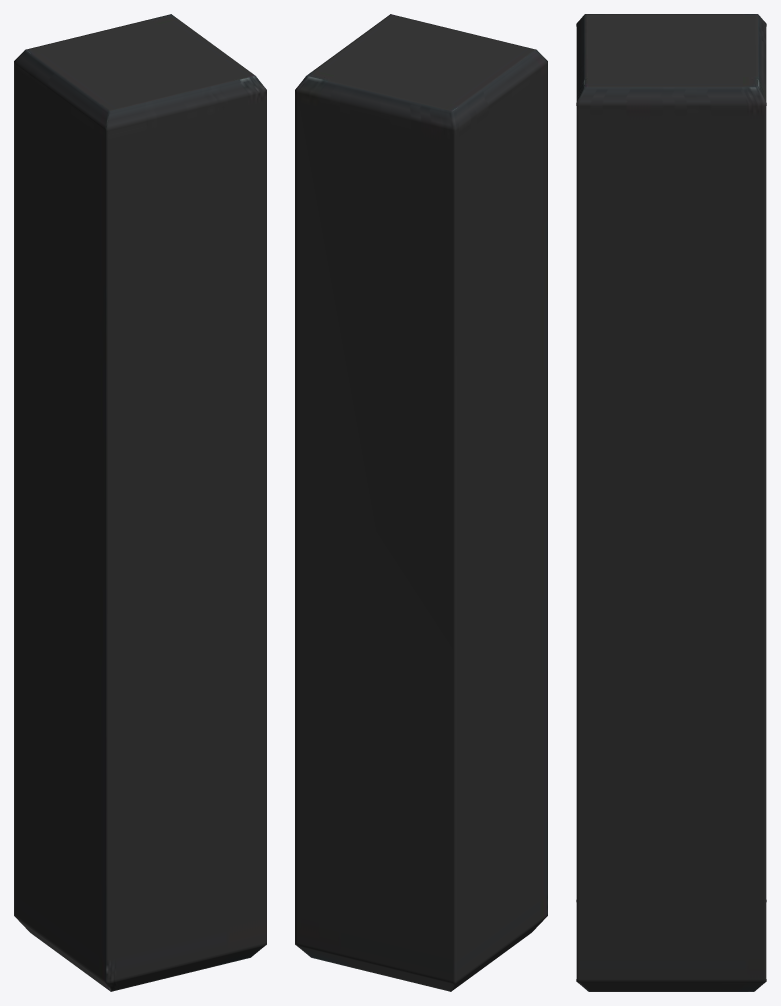
The model's file is black-pillar.glb.
3 views of the same model, side by side, from view 1: azimuth 30°, elevation 25°; view 2: azimuth 150°, elevation 25°; view 3: azimuth 270°, elevation 25° (orthographic). The views are drawn at different scales.
Parts seen in each view (by area): view 1: PillarMid; view 2: PillarMid; view 3: PillarMid.
Part boxes in pixels (box(x1,y1,x2,y2)): PillarMid: box(14, 14, 266, 991); PillarMid: box(295, 14, 547, 991); PillarMid: box(576, 14, 766, 991).
Bounding box in the file's own units: 57.03 × 300 × 57.03.
1 material, 1 textured.
